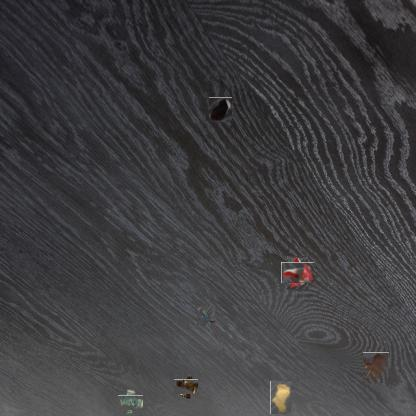dirty: (284, 259, 311, 286), (270, 380, 291, 414), (120, 392, 141, 413), (177, 377, 196, 396), (197, 306, 215, 324)
liquid: (364, 352, 390, 383), (208, 98, 233, 122)
